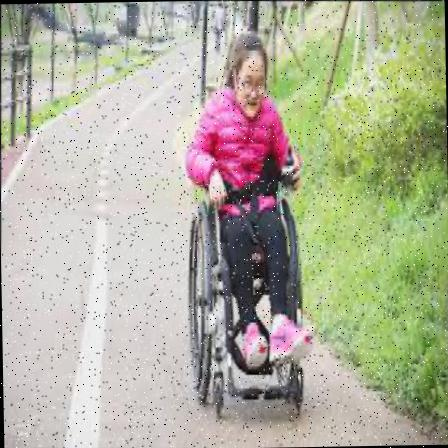wheel: (177, 26, 316, 422)
